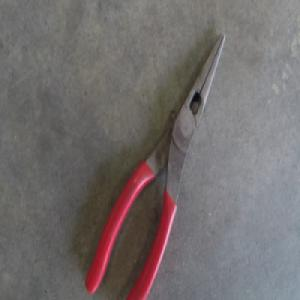Pliers: (79, 32, 225, 299)
